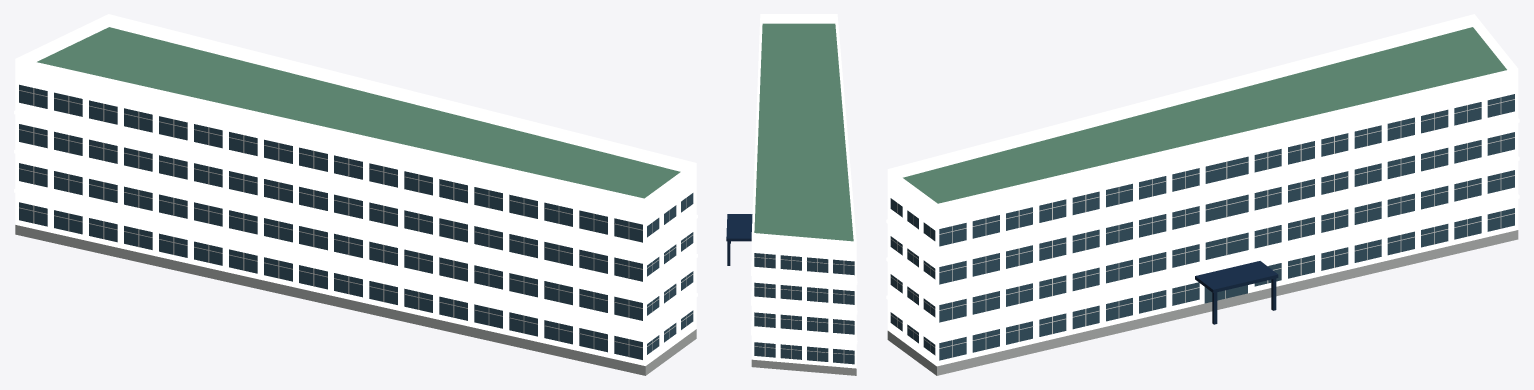
3 views of the same model, side by side, from view 1: azimuth 30°, elevation 25°; view 2: azimuth 150°, elevation 25°; view 3: azimuth 270°, elevation 25° (orthographic). The views are drawn at different scales.
Parts seen in each view (by area): view 1: southwest__wall-plaster, southwest__glass, southwest__roof, southwest__trim-concrete, southwest__base-stone, southwest__frame; view 2: southwest__roof, southwest__wall-plaster, southwest__glass, southwest__trim-concrete, southwest__base-stone, southwest__canopy-concrete, southwest__frame; view 3: southwest__wall-plaster, southwest__glass, southwest__roof, southwest__trim-concrete, southwest__base-stone, southwest__frame, southwest__canopy-concrete.
Boxes of the visible parts, left/top/right/bottom form: southwest__wall-plaster: left=15, top=59, right=696, bottom=365; southwest__glass: left=19, top=84, right=693, bottom=359; southwest__roof: left=37, top=27, right=680, bottom=198; southwest__trim-concrete: left=14, top=14, right=697, bottom=360; southwest__base-stone: left=15, top=225, right=696, bottom=375; southwest__frame: left=19, top=88, right=693, bottom=356; southwest__roof: left=754, top=23, right=853, bottom=241; southwest__wall-plaster: left=751, top=234, right=856, bottom=368; southwest__glass: left=754, top=253, right=854, bottom=364; southwest__trim-concrete: left=751, top=14, right=857, bottom=364; southwest__base-stone: left=751, top=359, right=856, bottom=375; southwest__canopy-concrete: left=726, top=214, right=752, bottom=265; southwest__frame: left=754, top=254, right=854, bottom=363; southwest__wall-plaster: left=887, top=69, right=1518, bottom=366; southwest__glass: left=890, top=94, right=1514, bottom=360; southwest__roof: left=903, top=27, right=1506, bottom=203; southwest__trim-concrete: left=886, top=14, right=1519, bottom=361; southwest__base-stone: left=887, top=230, right=1518, bottom=375; southwest__frame: left=891, top=97, right=1514, bottom=357; southwest__canopy-concrete: left=1195, top=261, right=1278, bottom=324.
Bounding box in the file's own units: 39.09 × 16.15 × 54.36.
